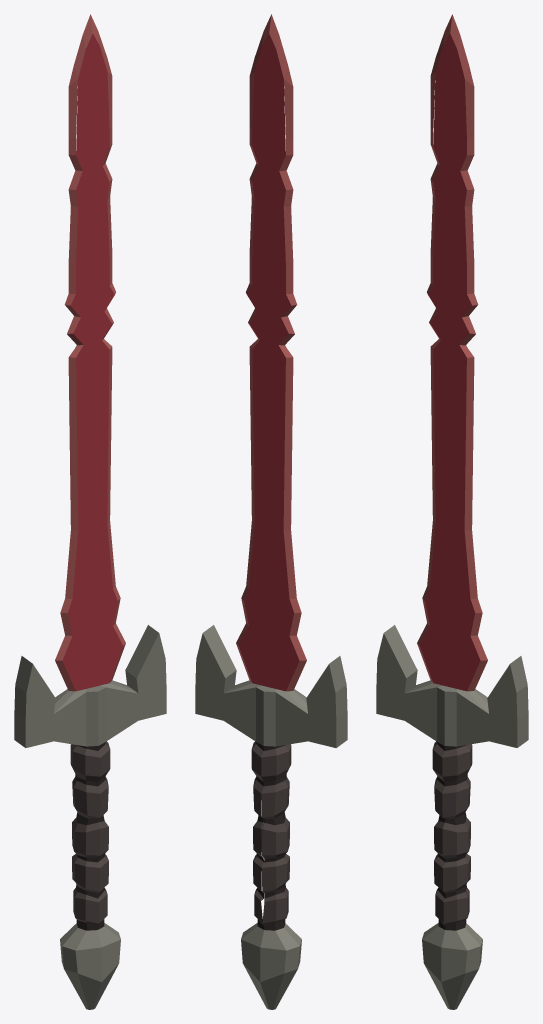
Rendered from w_claymore.glb.
3 renders of one model, left to right at view 1: azimuth 30°, elevation 25°; view 2: azimuth 150°, elevation 25°; view 3: azimuth 330°, elevation 25°, orthographic.
Visible parts, largest first — view 1: Claymore; view 2: Claymore; view 3: Claymore.
Part boxes in pixels (x1,y1,x2,y2): Claymore: (14, 14, 166, 1009); Claymore: (195, 14, 347, 1009); Claymore: (376, 14, 528, 1009).
Bounding box in the file's own units: 0.9781 × 6.59 × 0.2713.
